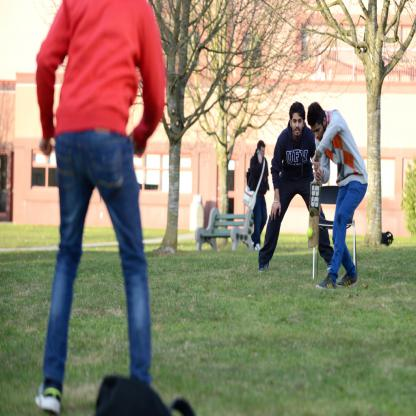Ball: (306, 228, 312, 240)
